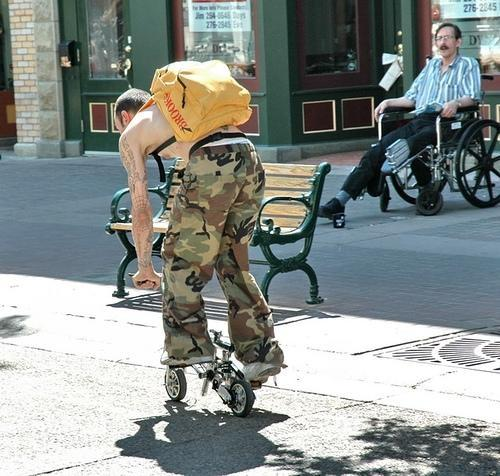bicycle: (158, 330, 262, 418)
